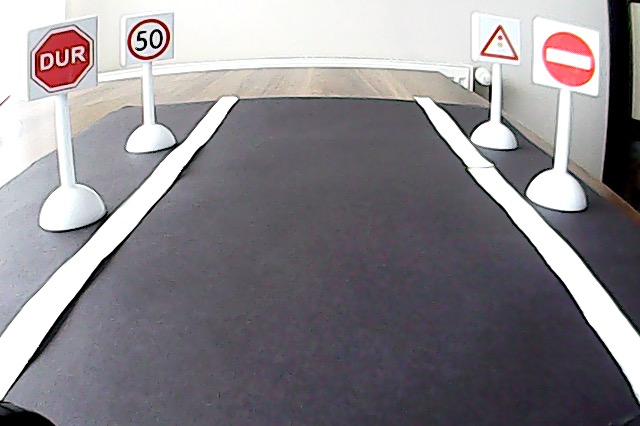do not enter: (537, 27, 598, 91)
red light: (478, 20, 522, 65)
speed limit 50: (125, 16, 171, 62)
stop sign: (25, 23, 96, 96)
